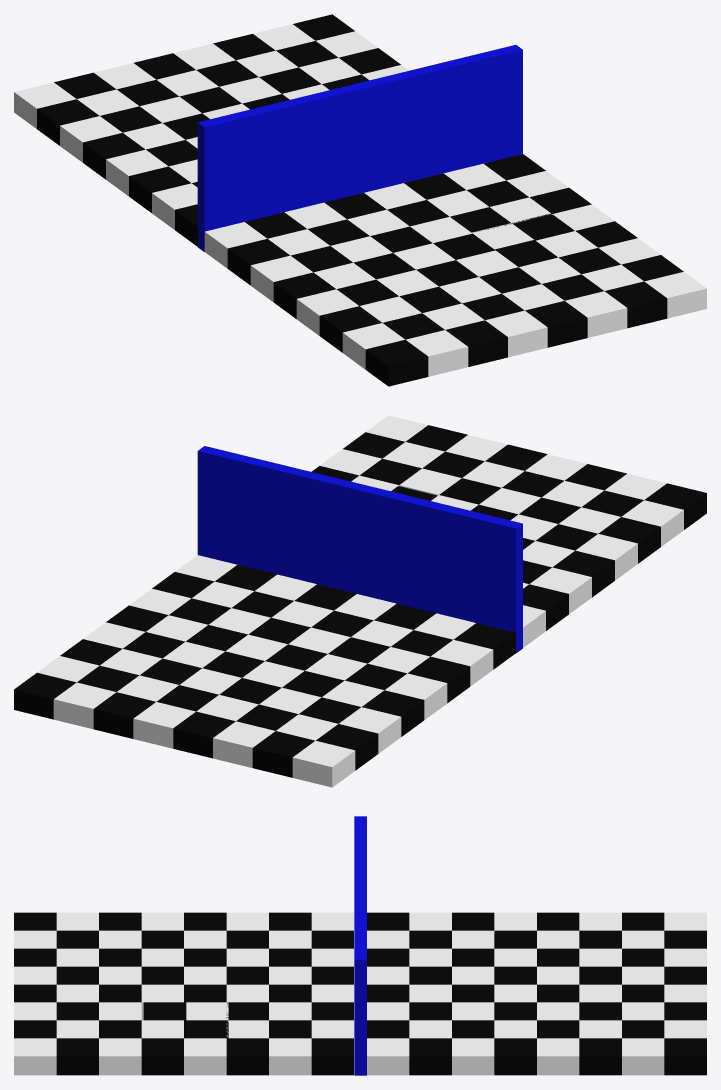
The model's file is Board.fbx.
3 renders of one model, top to bottom at view 1: azimuth 30°, elevation 25°; view 2: azimuth 150°, elevation 25°; view 3: azimuth 270°, elevation 25°, orthographic. The views are drawn at different scales.
Parts seen in each view (by area): view 1: Cube, Tile, Tile.006, Tile.004, Tile.005, Tile.001, Tile.002, Tile.007, Tile.003, Tile.012, Tile.009, Tile.011 (+85 smaller); view 2: Cube, Tile.022, Tile.112, Tile.082, Tile.097, Tile.037, Tile.052, Tile.067, Tile.127, Tile.017, Tile.020, Tile.018 (+85 smaller); view 3: Cube, Tile.007, Tile.114, Tile.116, Tile.118, Tile.121, Tile.123, Tile.125, Tile.127, Tile.113, Tile.115, Tile.117 (+117 smaller).
Boxes of the visible parts, x1,y1,x2,y2 form: Cube: (197,45,522,252); Tile: (365,339,428,386); Tile.006: (604,281,667,328); Tile.004: (525,301,587,347); Tile.005: (565,291,627,337); Tile.001: (406,330,468,376); Tile.002: (445,320,507,366); Tile.007: (644,272,706,318); Tile.003: (485,310,547,357); Tile.012: (250,255,312,302); Tile.009: (319,306,381,352); Tile.011: (273,272,335,318); Cube: (197,446,522,653); Tile.022: (292,740,355,787); Tile.112: (53,682,116,729); Tile.082: (133,702,195,748); Tile.097: (93,692,155,738); Tile.037: (252,731,314,777); Tile.052: (213,721,275,767); Tile.067: (173,711,235,758); Tile.127: (14,673,76,719); Tile.017: (408,656,470,703); Tile.020: (339,707,401,753); Tile.018: (385,673,447,719); Cube: (354,816,366,1075); Tile.007: (14,1038,56,1075); Tile.114: (99,1038,141,1075); Tile.116: (184,1038,226,1075); Tile.118: (269,1038,311,1075); Tile.121: (409,1038,451,1075); Tile.123: (494,1038,536,1075); Tile.125: (579,1038,621,1075); Tile.127: (664,1038,706,1075); Tile.113: (56,1038,98,1075); Tile.115: (141,1038,183,1075); Tile.117: (226,1038,268,1075).
Size of the model in its own units: 8 by 16.3 by 3.
